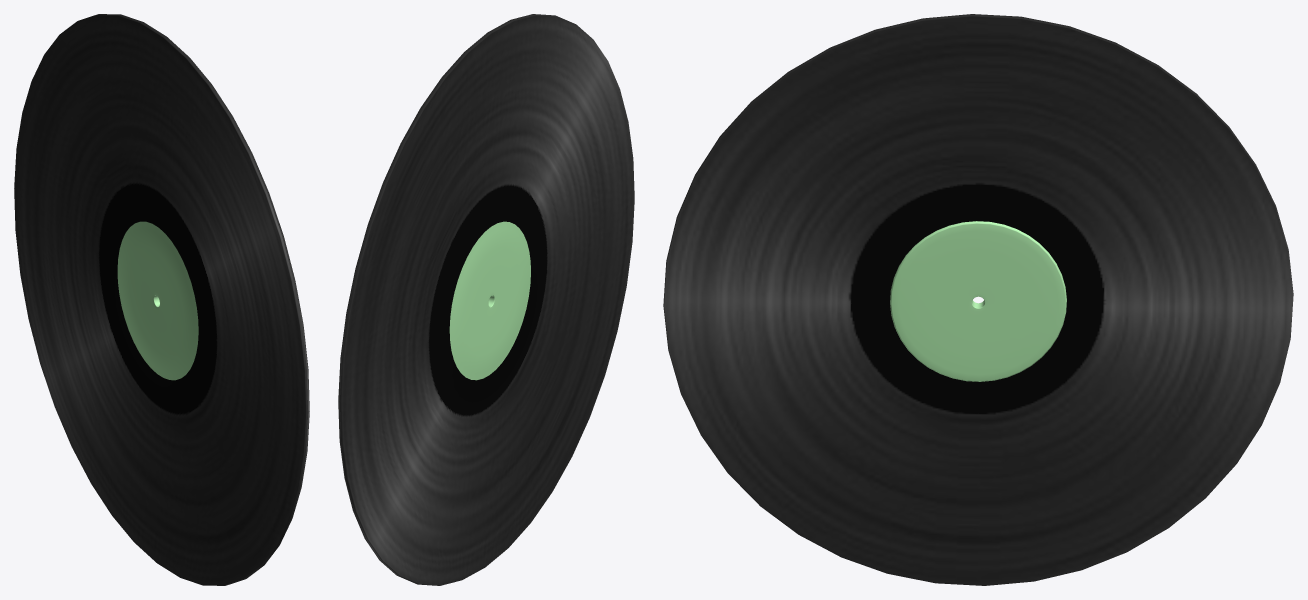
File: Vinyl_06.fbx
3 renders of one model, left to right at view 1: azimuth 30°, elevation 25°; view 2: azimuth 150°, elevation 25°; view 3: azimuth 270°, elevation 25°, orthographic. The views are drawn at different scales.
Parts seen in each view (by area): view 1: Vinyl2; view 2: Vinyl2; view 3: Vinyl2.
Boxes of the visible parts, x1=… form: Vinyl2: x1=14, y1=14, x2=309, y2=585; Vinyl2: x1=338, y1=14, x2=634, y2=585; Vinyl2: x1=663, y1=14, x2=1293, y2=585.
Size of the model in its own units: 0.0559 by 2.64 by 2.64.
Materials: 2 (1 with a texture image).
